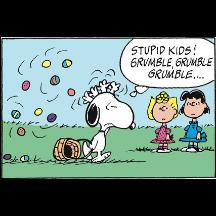snoopy: (82, 80, 136, 162)
